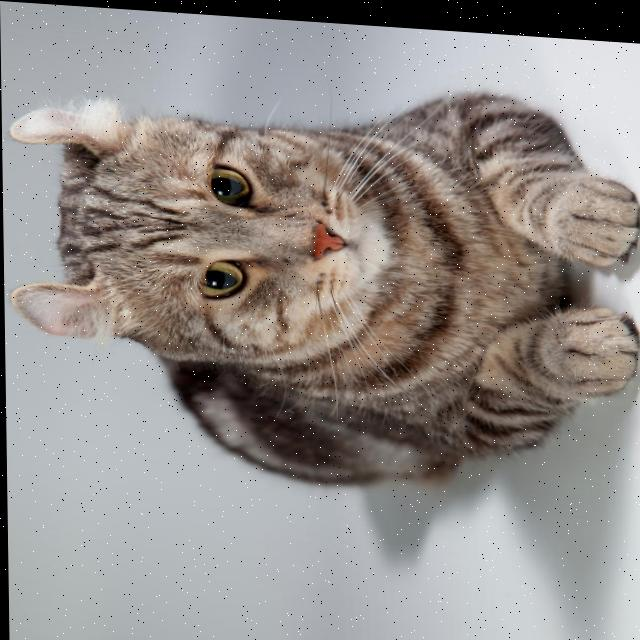American Curl: (2, 54, 640, 502)
